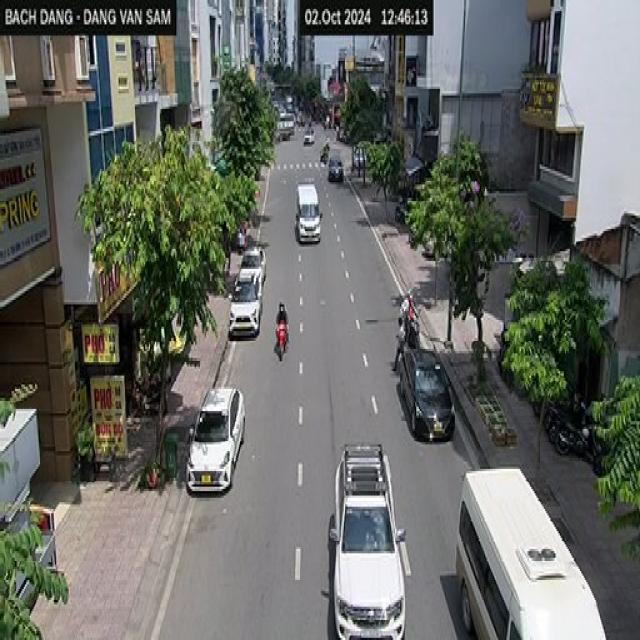car: (455, 464, 606, 638), (330, 443, 408, 640), (185, 384, 245, 494), (397, 344, 455, 442), (229, 262, 261, 348), (294, 182, 321, 242), (236, 243, 268, 285), (328, 153, 342, 180)
motorcycle: (398, 313, 424, 343), (274, 318, 288, 360)
person: (402, 275, 420, 323), (391, 316, 405, 371), (274, 288, 289, 328), (408, 286, 422, 323)
